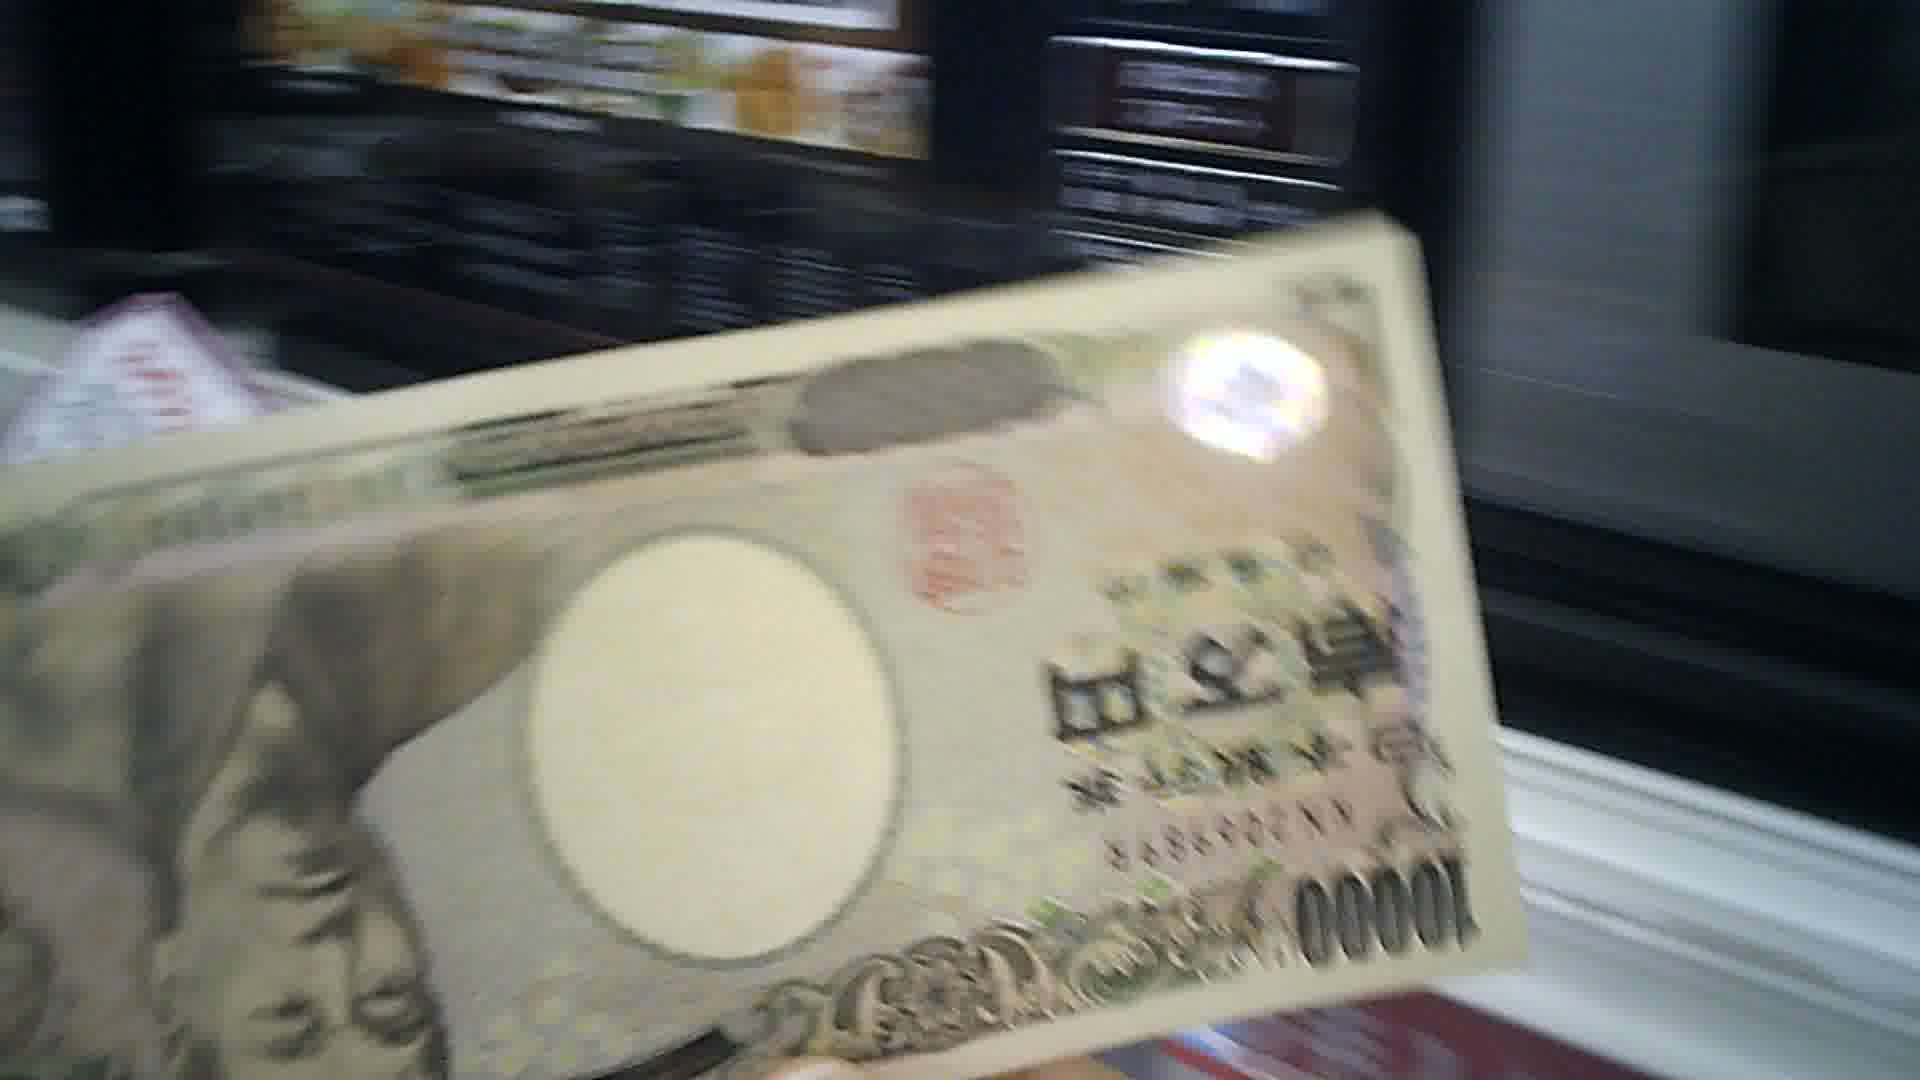10,000 Yen: (9, 210, 1519, 1079)
